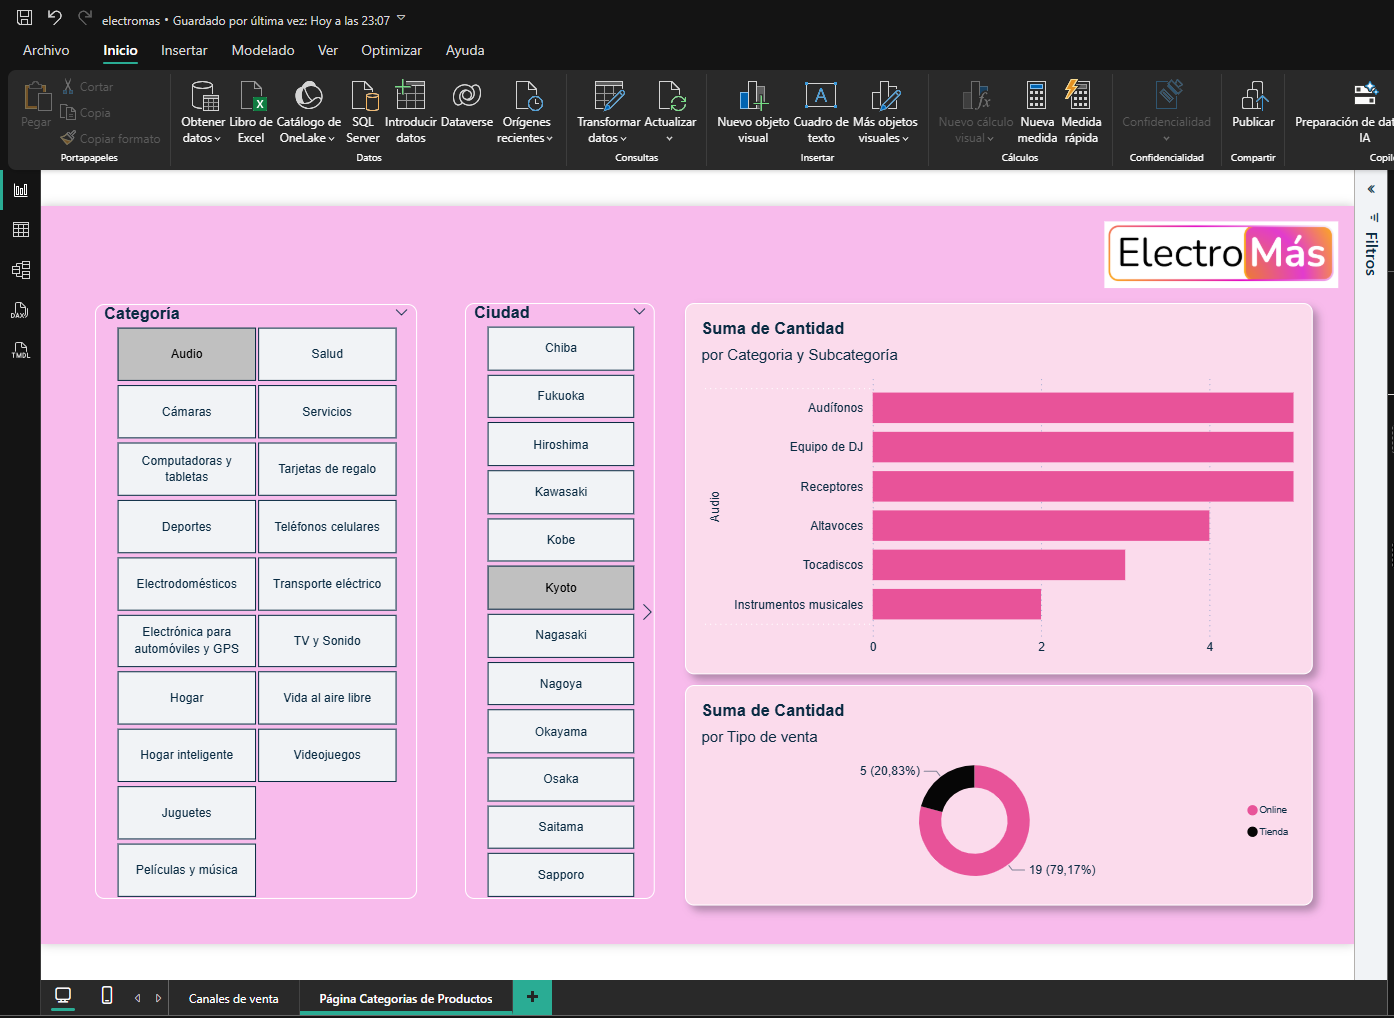

Layout of this report page (visuals, bound fields, positions):
{"tool":"powerbi","page":{"name":"Página Categorias de Productos","canvas":[1280,720],"ordinal":1},"visuals":[{"type":"slicer","fields":{"Values":["Categorias.Categoría"]},"box":[52.6,95.5,313.9,580],"z":0},{"type":"clusteredBarChart","title":"Suma de Cantidad ","fields":{"Y":["Sum(Transacciones.Cantidad)"],"Category":["Categorias.Categoría Jerarquía.Categoría","Categorias.Categoría Jerarquía.Subcategoría"]},"box":[627.8,94.6,612.2,361.7],"z":1000},{"type":"slicer","fields":{"Values":["Ciudades1.Ciudad"]},"box":[413.3,94.6,185.2,581],"z":2000},{"type":"image","box":[1021.7,0,258.3,95.5],"z":3000},{"type":"donutChart","title":"Suma de Cantidad ","fields":{"Category":["Transacciones.Tipo_venta"],"Y":["Sum(Transacciones.Cantidad)"]},"box":[627.8,467,612.2,215.4],"z":4000}]}

Visuals, with their boxes on the page's 1280x720 design canvas (x1, y1, x2, y2). These are canvas units, not pixel positions in the 1394x1018 screenshot, which may show the page scaled, cropped or inside an application window:
slicer - Categorias.Categoría: crop(53, 96, 366, 676)
"Suma de Cantidad " clusteredBarChart: crop(628, 95, 1240, 456)
slicer - Ciudades1.Ciudad: crop(413, 95, 598, 676)
image: crop(1022, 0, 1280, 96)
"Suma de Cantidad " donutChart: crop(628, 467, 1240, 682)
